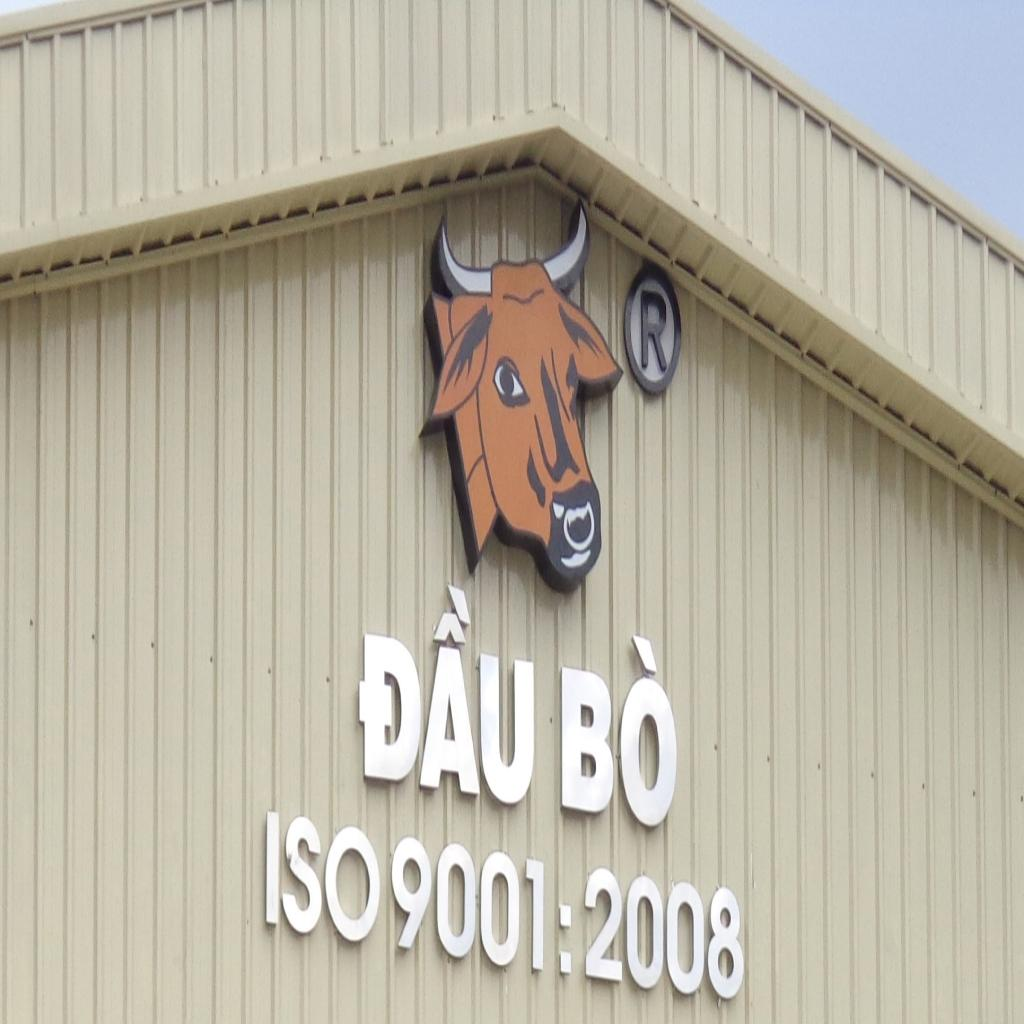text: (265, 804, 573, 982), (356, 567, 538, 813), (560, 616, 678, 829), (640, 286, 668, 375)
